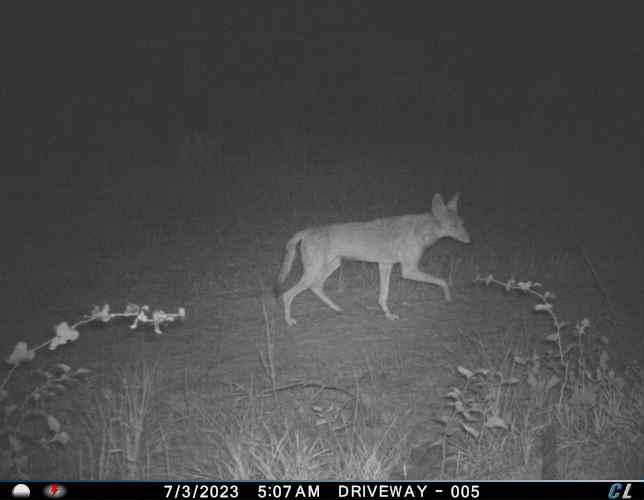Coyote: (272, 194, 475, 329)
